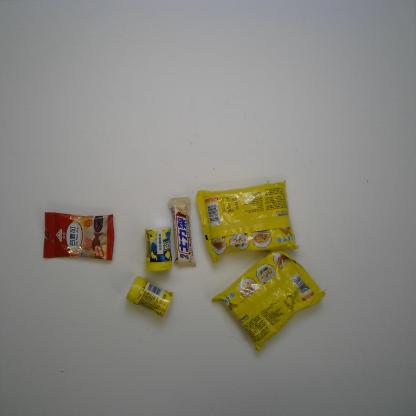Chocolate: (168, 196, 198, 266)
Gum: (126, 276, 174, 318), (145, 226, 172, 272)
Instant Drink: (43, 212, 114, 260)
Instant Noodles: (211, 250, 326, 352), (196, 180, 299, 264)
